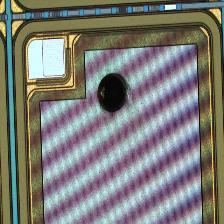PARTICLE: (95, 70, 132, 120)
